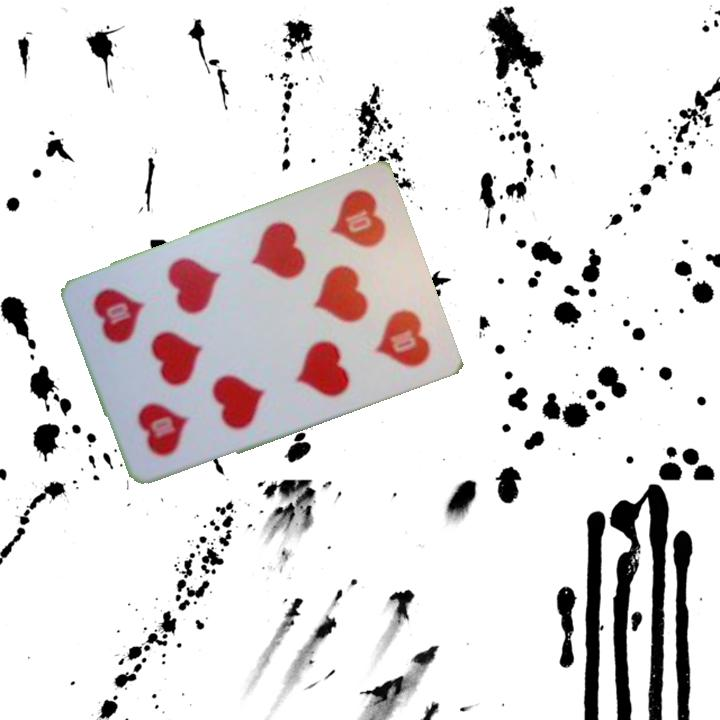h_10.png: (297, 179, 411, 301), (108, 349, 222, 470)
